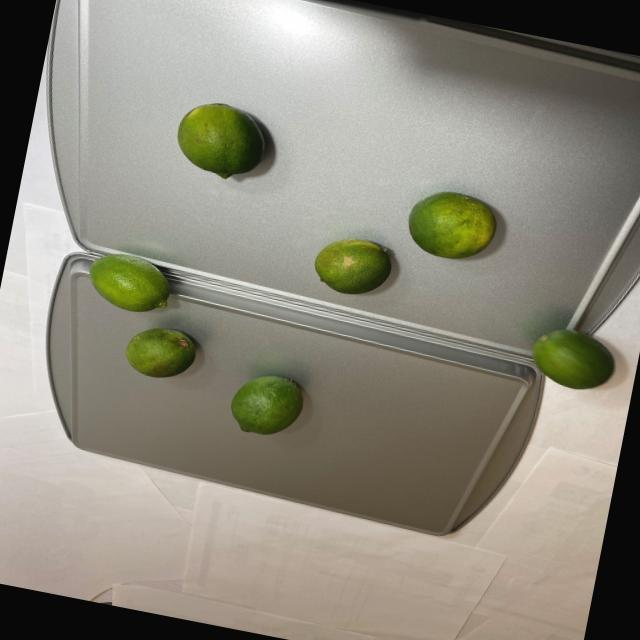lemon: (143, 88, 640, 393), (66, 238, 334, 442)
